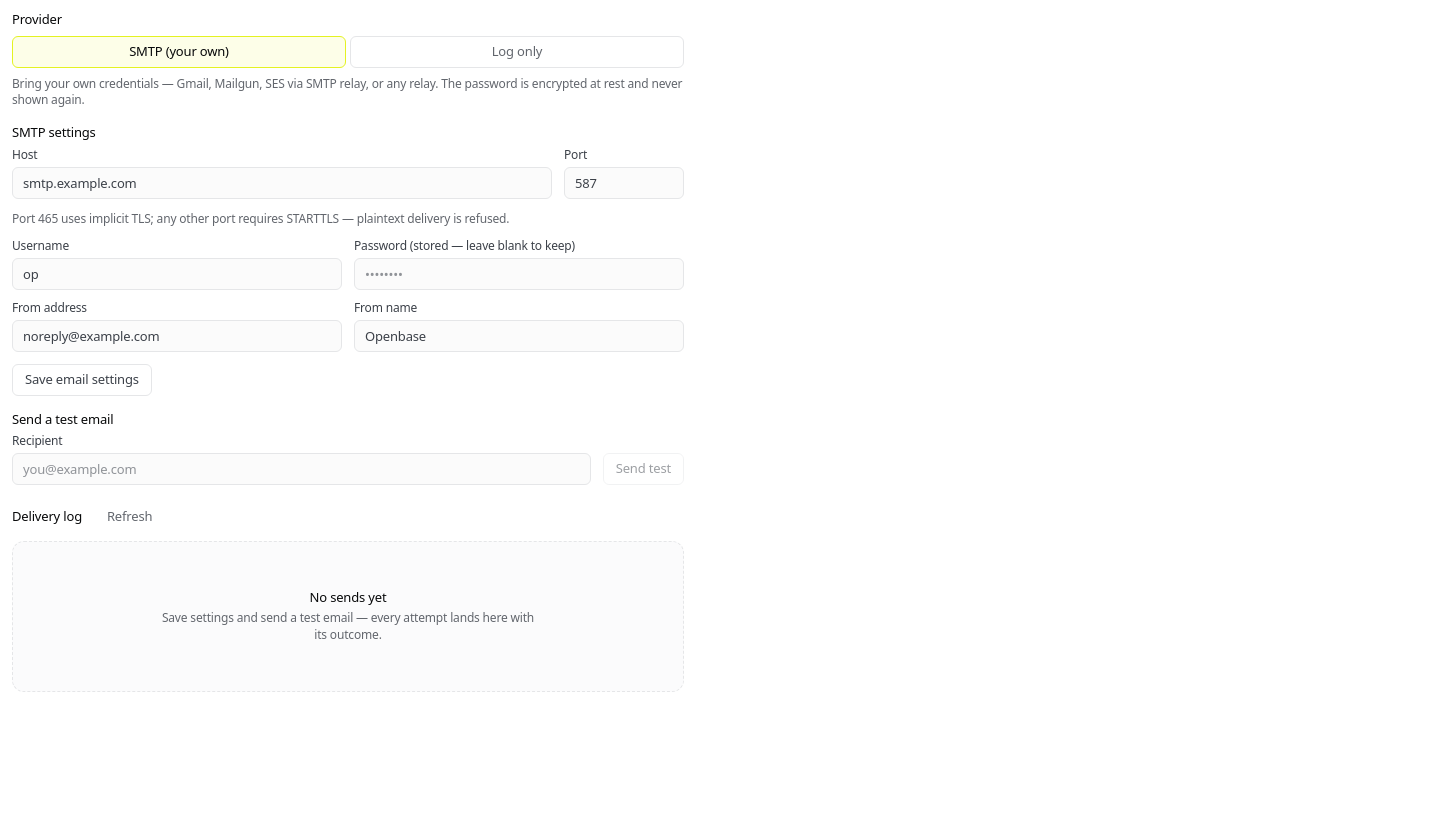
Test: EmailSettingsPanel › sends a test email and shows the inline result
The image size is (1452, 822).
Type "me@example.com" into the field labelled "Recipient" at {"x": 301, "y": 469}, box [12,453,591,485]
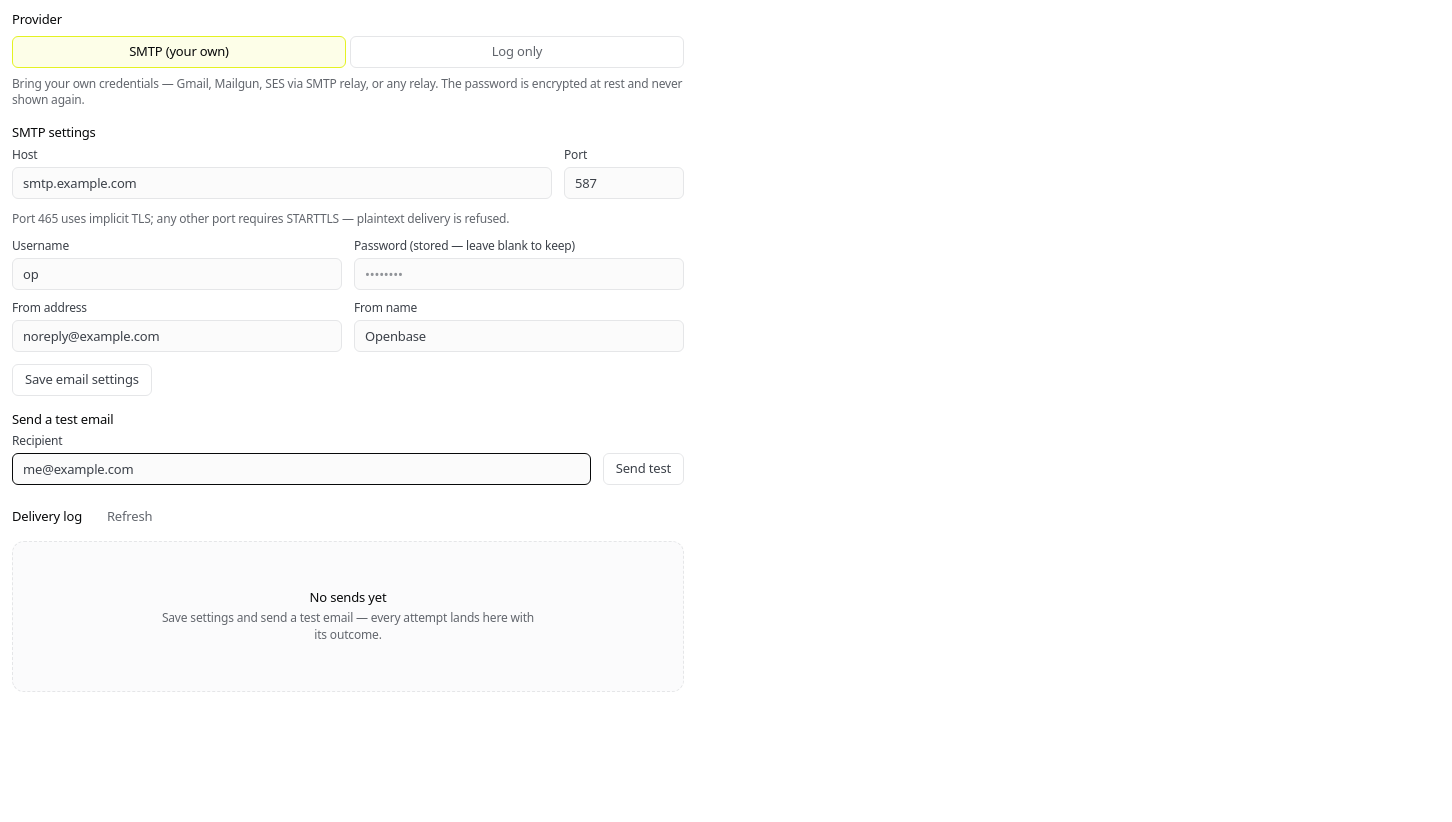
Click the button "Send test" at {"x": 643, "y": 469}, box [603,453,684,485]
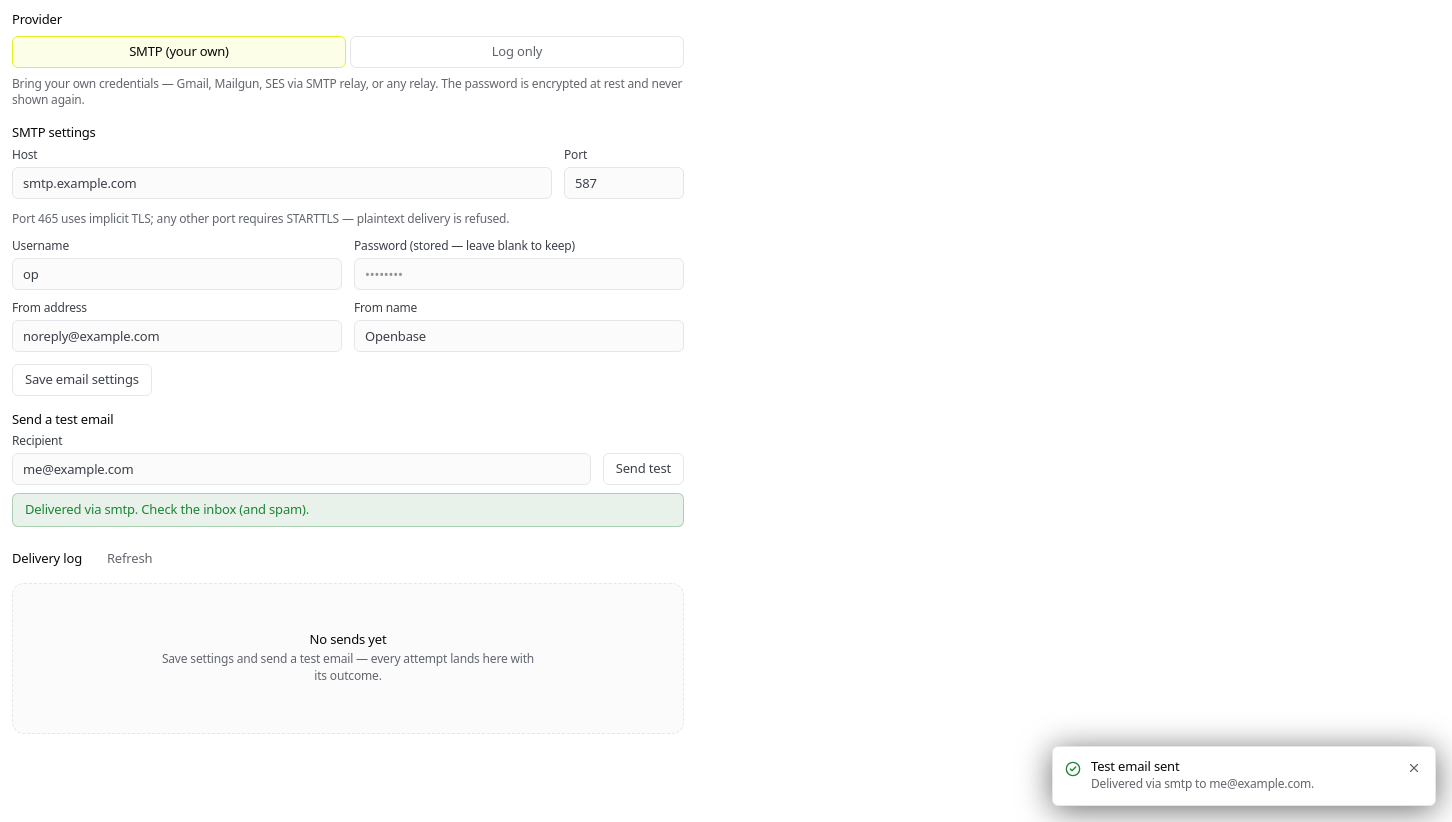
Result: the text "Delivered via smtp. Check the inbox (and spam)." is shown at [12,493,684,527]
